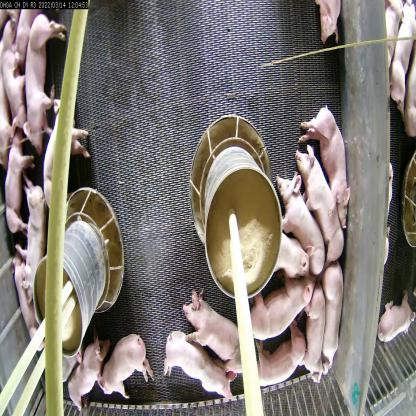Pig: (300, 99, 357, 235), (41, 96, 93, 221), (162, 329, 238, 411), (20, 13, 64, 154), (272, 166, 328, 276), (294, 145, 344, 267), (181, 281, 240, 368), (242, 276, 310, 340), (96, 331, 156, 403), (248, 321, 308, 392), (61, 330, 109, 416), (9, 256, 46, 360), (319, 256, 346, 375), (0, 43, 31, 136), (3, 130, 28, 242), (268, 227, 313, 287), (304, 280, 326, 400), (391, 1, 415, 107), (377, 289, 416, 349), (310, 0, 342, 48)
